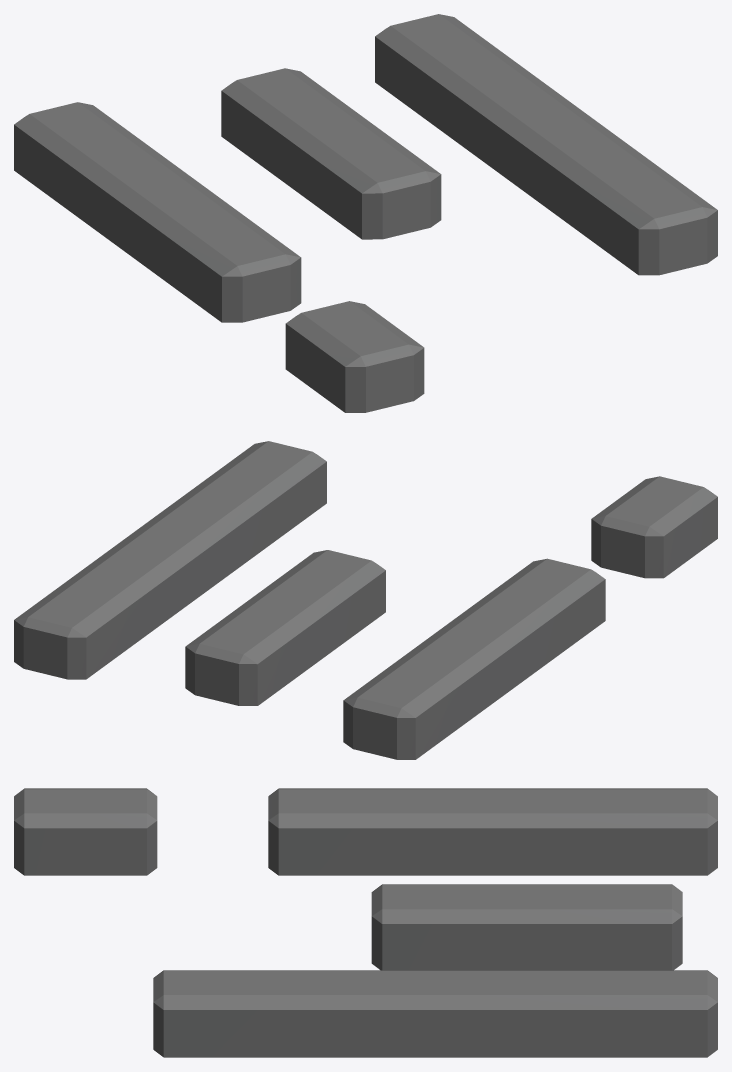
Rendered from Signs_2_3.obj.
3 views of the same model, one above another, from view 1: azimuth 30°, elevation 25°; view 2: azimuth 150°, elevation 25°; view 3: azimuth 270°, elevation 25° (orthographic). The views are drawn at different scales.
Parts seen in each view (by area): view 1: Signs_2_3; view 2: Signs_2_3; view 3: Signs_2_3.
Part boxes in pixels (left/top/right/bottom): Signs_2_3: left=14, top=14, right=717, bottom=412; Signs_2_3: left=14, top=441, right=717, bottom=759; Signs_2_3: left=14, top=788, right=717, bottom=1057.
Size of the model in its own units: 0.2888 by 0.0331 by 0.3877.
